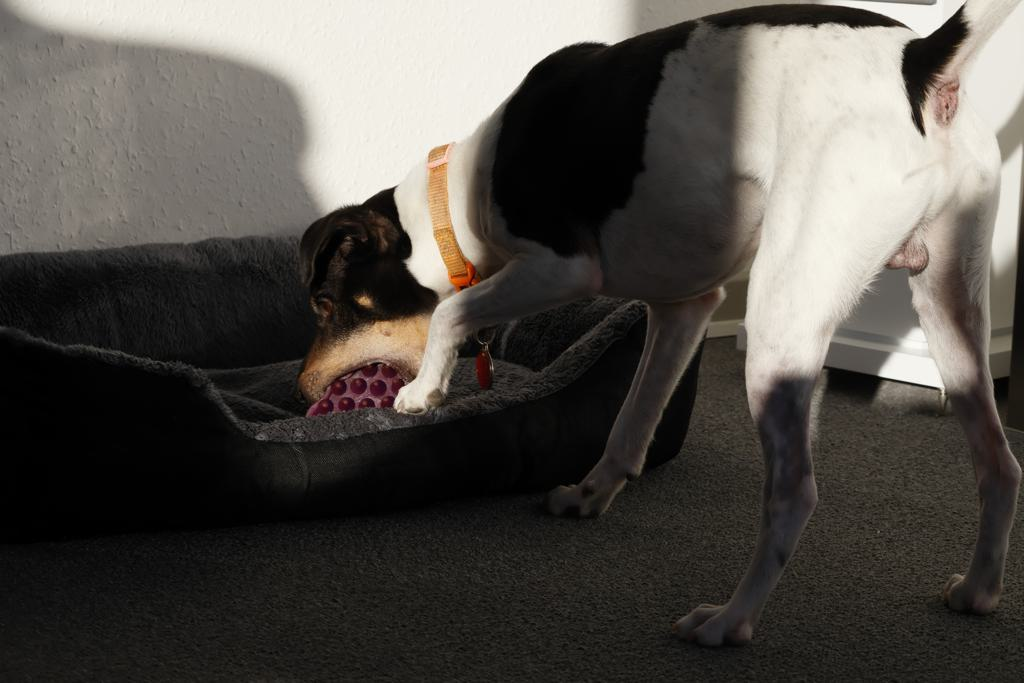Dog: (292, 0, 1024, 655)
